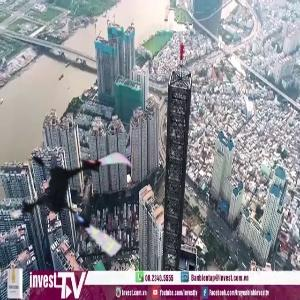drone: (10, 127, 150, 267)
